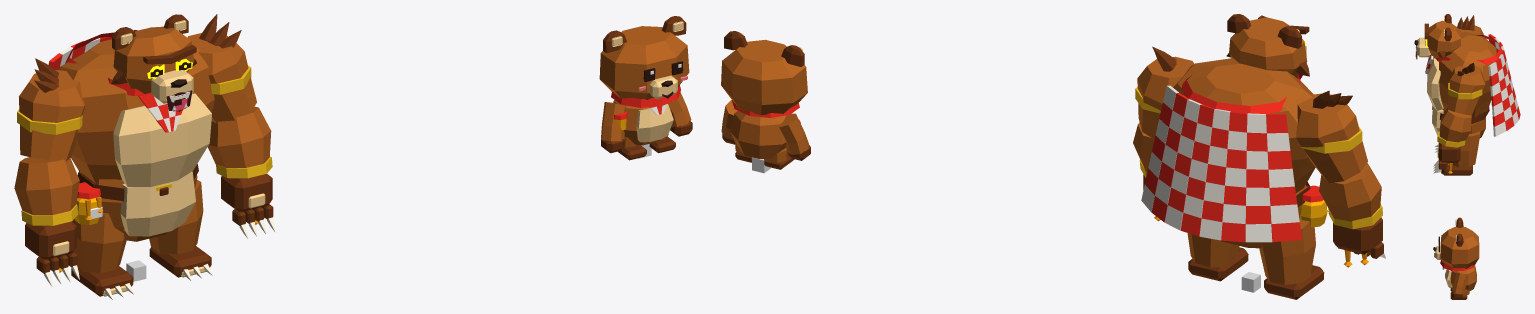
The model's file is Boss01.fbx.
The picture shows the model from 3 angles, left to right: view 1: azimuth 30°, elevation 25°; view 2: azimuth 150°, elevation 25°; view 3: azimuth 270°, elevation 25°; orthographic projection. The views are drawn at different scales.
Visible parts, largest first — view 1: B01__Chest, B01__Chest_FurLight, P01__Head, B01__RightUpperArm, B01__Body_FurLight, B01__RightLowerArm, B01__LeftLowerArm, B01__LeftUpperArm, B01__Head, B01__RightLeg, B01__RightHand, B01__LeftHand (+22 smaller); view 2: B01__Cape, B01__Cape_CapeWhite, B01__Chest, P01__Head, B01__RightUpperArm, B01__Head, B01__RightLeg, B01__RightLowerArm, P01__Body, B01__LeftUpperArm, B01__RightHand, B01__LeftLeg (+9 smaller); view 3: B01__Chest, P01__Head, B01__Cape, B01__LeftUpperArm, B01__Cape_CapeWhite, B01__Head, B01__LeftLowerArm, B01__Chest_FurLight, B01__LeftLeg, B01__LeftHand, P01__Body, P01__LeftUpperArm (+17 smaller).
Part boxes in pixels (x1=…): B01__Chest: x1=58, y1=39, x2=214, y2=183; B01__Chest_FurLight: x1=113, y1=93, x2=211, y2=187; P01__Head: x1=599, y1=26, x2=689, y2=99; B01__RightUpperArm: x1=19, y1=70, x2=85, y2=161; B01__Body_FurLight: x1=120, y1=171, x2=195, y2=236; B01__RightLowerArm: x1=14, y1=157, x2=79, y2=215; B01__LeftLowerArm: x1=208, y1=106, x2=271, y2=167; B01__LeftUpperArm: x1=187, y1=33, x2=256, y2=123; B01__Head: x1=113, y1=26, x2=194, y2=93; B01__RightLeg: x1=71, y1=213, x2=126, y2=273; B01__RightHand: x1=25, y1=221, x2=77, y2=273; B01__LeftHand: x1=221, y1=174, x2=273, y2=225; B01__Cape: x1=1145, y1=75, x2=1301, y2=242; B01__Cape_CapeWhite: x1=1141, y1=85, x2=1299, y2=242; B01__Chest: x1=1173, y1=58, x2=1315, y2=192; P01__Head: x1=721, y1=39, x2=807, y2=114; B01__RightUpperArm: x1=1296, y1=93, x2=1367, y2=183; B01__Head: x1=1229, y1=17, x2=1307, y2=77; B01__RightLeg: x1=1259, y1=218, x2=1315, y2=284; B01__RightLowerArm: x1=1319, y1=163, x2=1381, y2=221; P01__Body: x1=730, y1=111, x2=786, y2=158; B01__LeftUpperArm: x1=1137, y1=56, x2=1193, y2=139; B01__RightHand: x1=1333, y1=217, x2=1383, y2=258; B01__LeftLeg: x1=1187, y1=233, x2=1239, y2=267; B01__Chest: x1=1439, y1=31, x2=1497, y2=118; P01__Head: x1=1440, y1=226, x2=1479, y2=268; B01__Cape: x1=1476, y1=34, x2=1520, y2=130; B01__LeftUpperArm: x1=1447, y1=66, x2=1485, y2=115; B01__Cape_CapeWhite: x1=1488, y1=38, x2=1518, y2=136; B01__Head: x1=1427, y1=20, x2=1460, y2=58; B01__LeftLowerArm: x1=1439, y1=107, x2=1471, y2=142; B01__Chest_FurLight: x1=1427, y1=58, x2=1443, y2=110; B01__LeftLeg: x1=1452, y1=131, x2=1480, y2=167; B01__LeftHand: x1=1438, y1=143, x2=1460, y2=169; P01__Body: x1=1450, y1=265, x2=1476, y2=290; P01__LeftUpperArm: x1=1452, y1=272, x2=1468, y2=294.
Size of the model in its own units: 5314 by 2011 by 1352.
